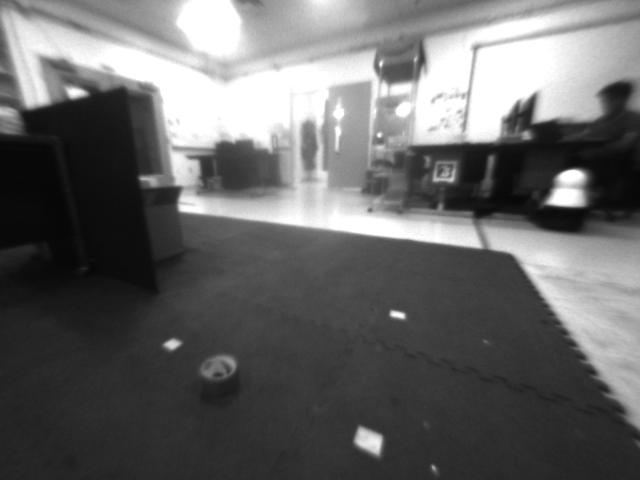dogtoy: (176, 353, 258, 395)
